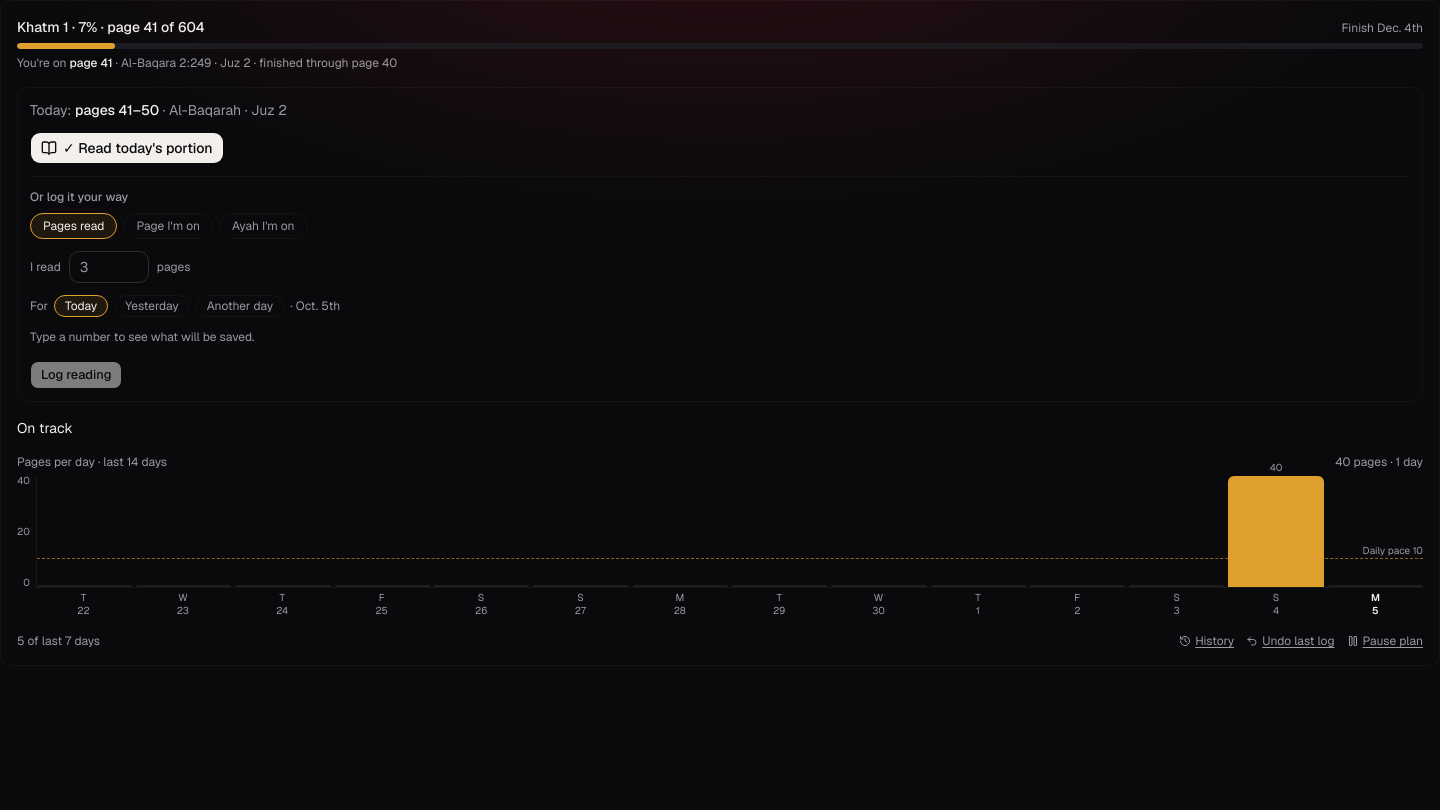
Test: QuranPlanCard (QURAN-02) › log your way: 'Page I'm on' previews what fits, refuses a page already logged, and logs the day you chose
The image size is (1440, 810).
Click the tab with test id "quran-mode-onPage" at (168, 226), box [124,213,213,239]
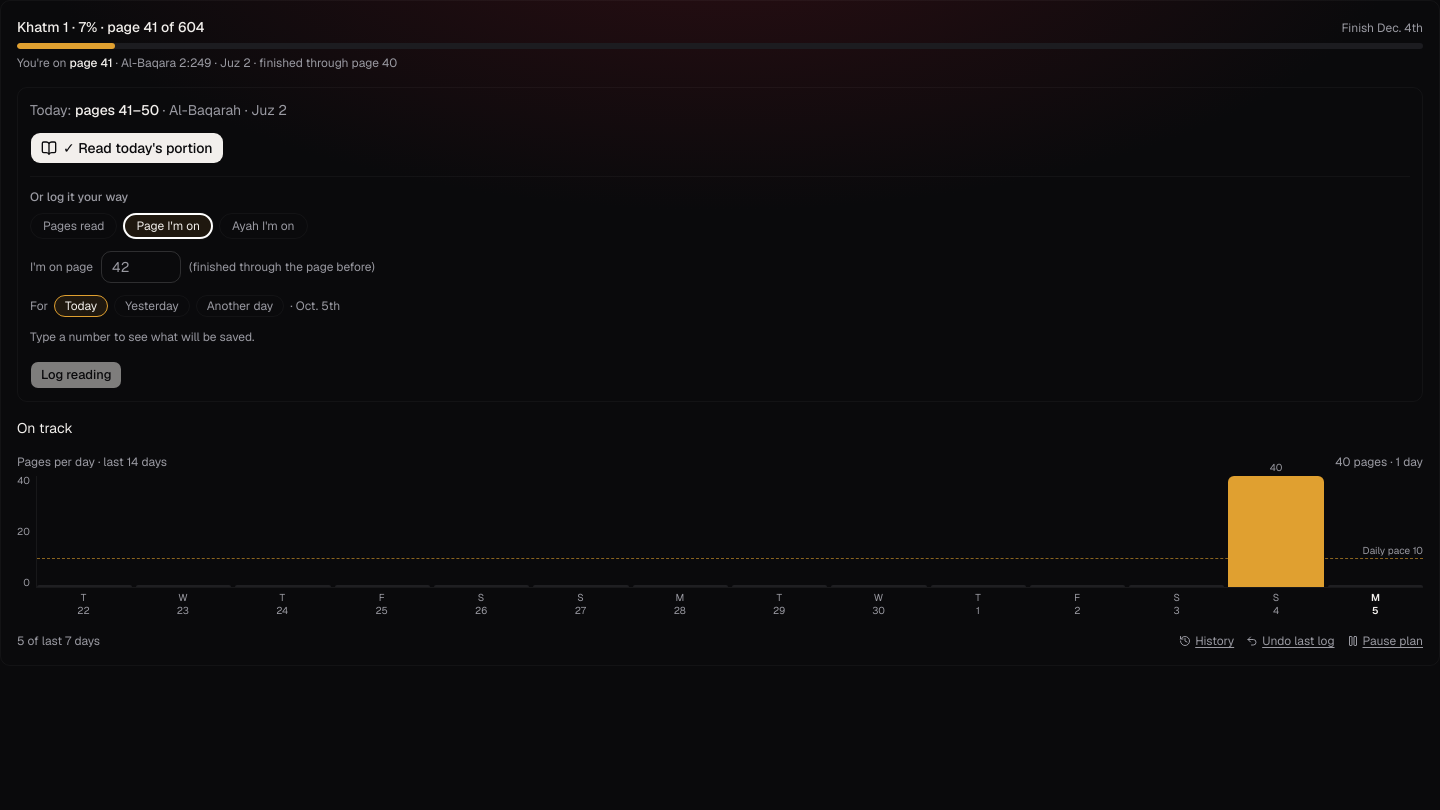
Type "30" into the number field labelled "I'm on page" at (141, 267), box [101,251,181,283]
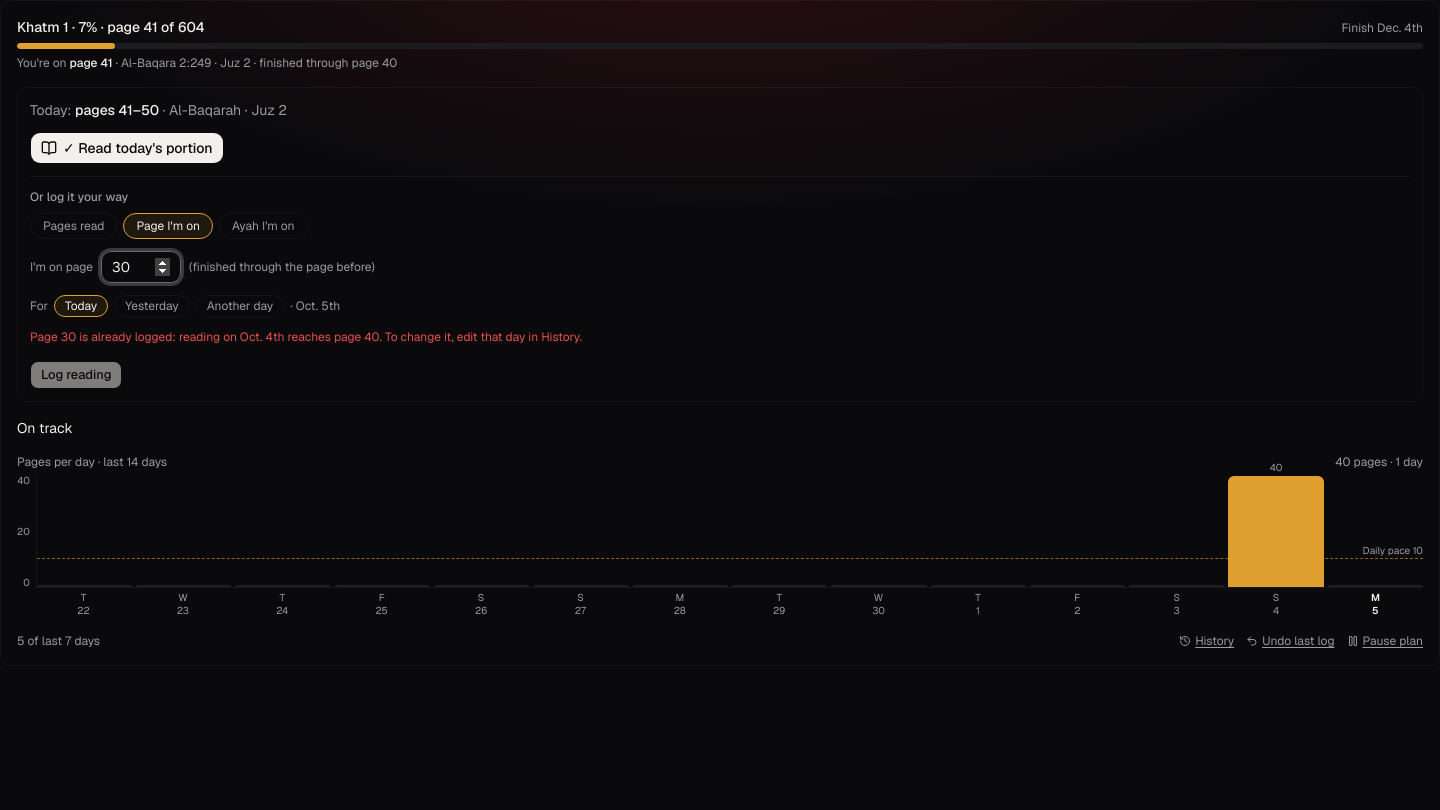
Expected: the button with test id "quran-log-submit" is disabled, [30,361,122,389]
Expected: the message with test id "quran-log-preview" shows "already logged", [30,329,582,345]
Replace the text in the number field labelled "I'm on page" with "47" at (141, 267), box [101,251,181,283]
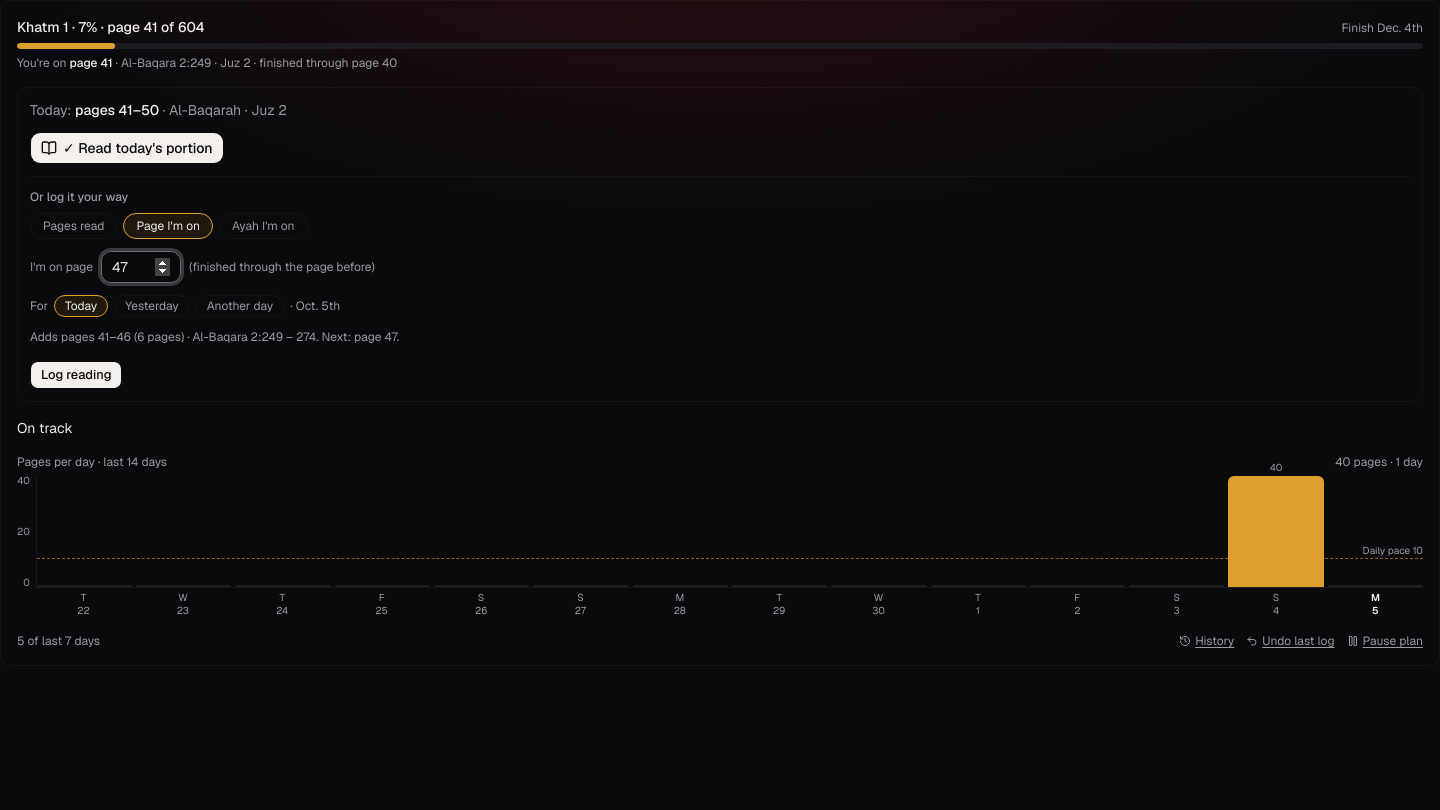
Expected: the message with test id "quran-log-preview" shows "Adds pages 41–46 (6 pages)", [30,329,399,345]
Click the button with test id "quran-log-submit" at (76, 375), box [30,361,122,389]
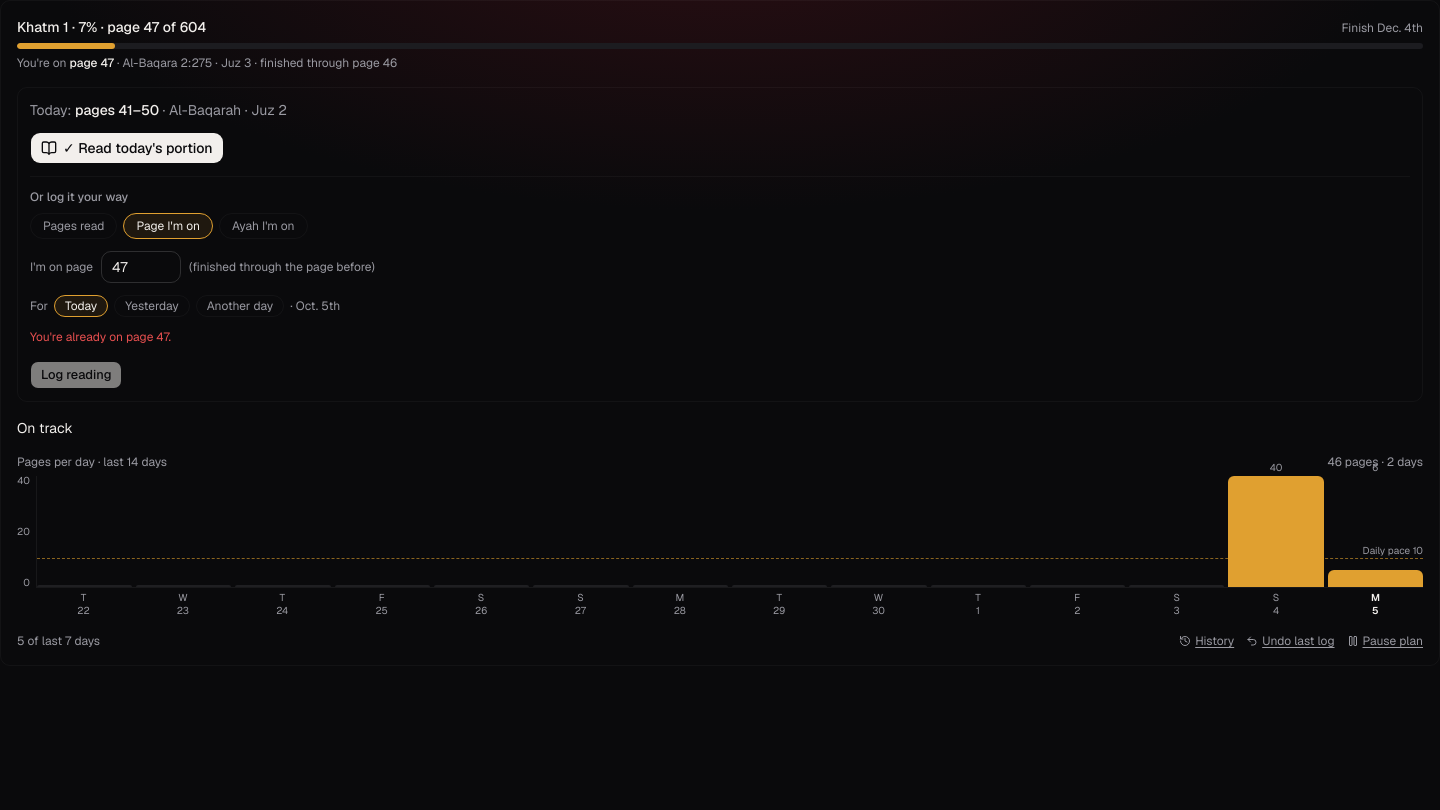
Expected: the heading with test id "quran-heading" shows "page 47 of 604", [17,17,206,37]
